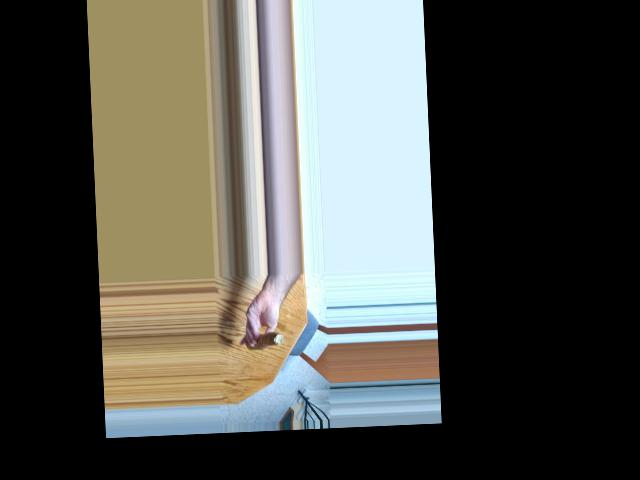sweet_potato: (244, 337, 279, 351)
